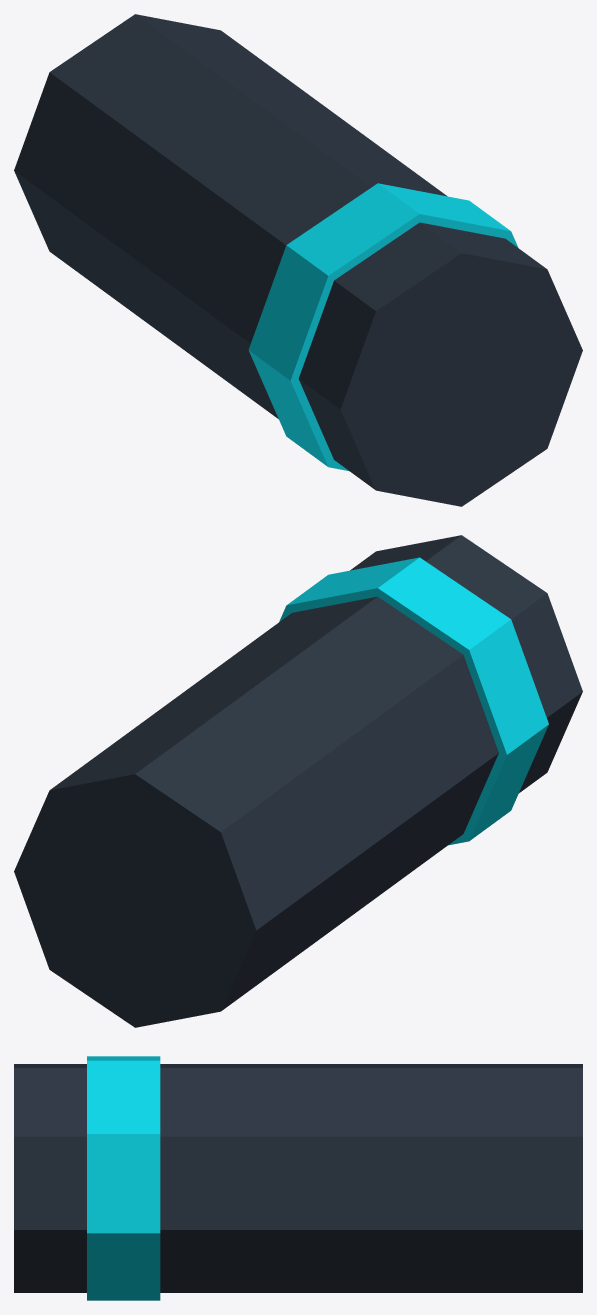
Rendered from ENV_prop_bollard.obj.
3 views of the same model, one above another, from view 1: azimuth 30°, elevation 25°; view 2: azimuth 150°, elevation 25°; view 3: azimuth 270°, elevation 25° (orthographic). The views are drawn at different scales.
Parts seen in each view (by area): view 1: ENV_prop_bollard; view 2: ENV_prop_bollard; view 3: ENV_prop_bollard.
Boxes of the visible parts, x1,y1,x2,y2 form: ENV_prop_bollard: (14,14,582,506); ENV_prop_bollard: (14,535,582,1027); ENV_prop_bollard: (14,1056,582,1300).
Bounding box in the file's own units: 0.32 × 0.32 × 0.7.
